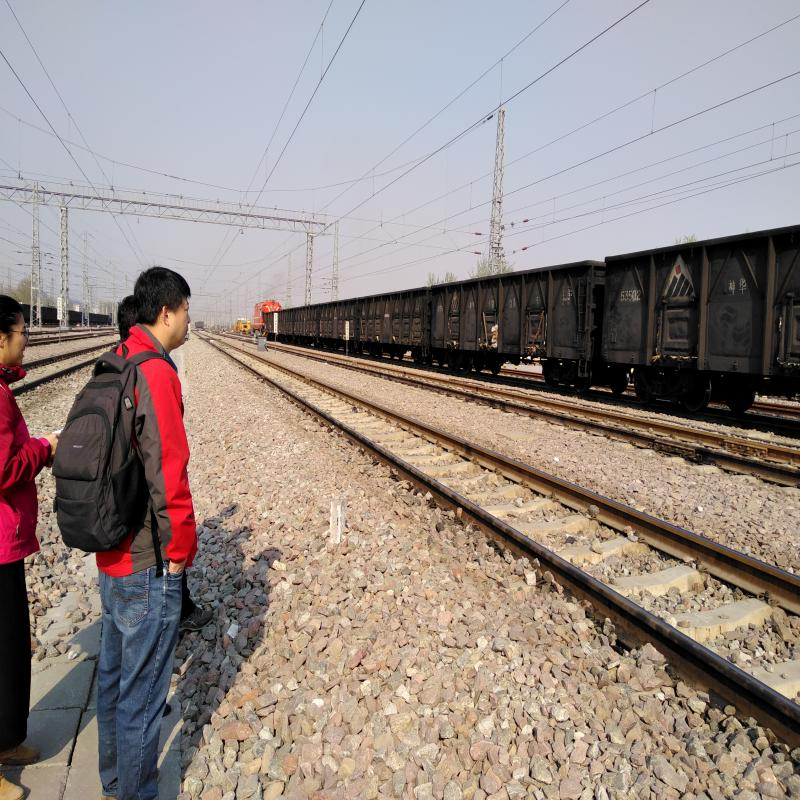train: (425, 281, 593, 384), (249, 302, 280, 340)
